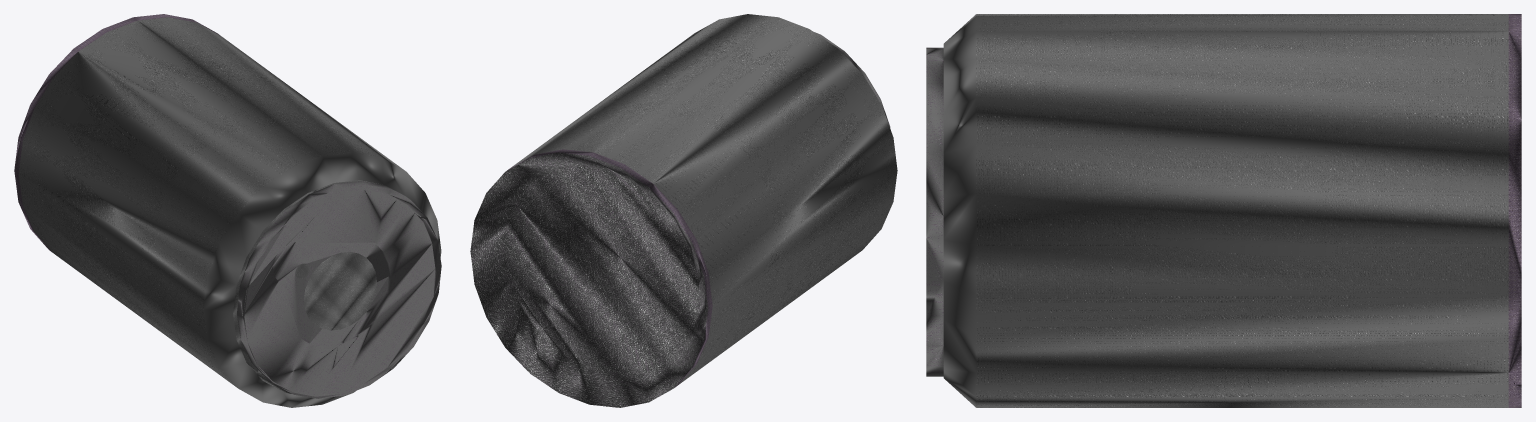
File: model_align.obj
3 views of the same model, side by side, from view 1: azimuth 30°, elevation 25°; view 2: azimuth 150°, elevation 25°; view 3: azimuth 270°, elevation 25° (orthographic). The views are drawn at different scales.
Size of the model in its own units: 0.0714 by 0.0714 by 0.1074.
